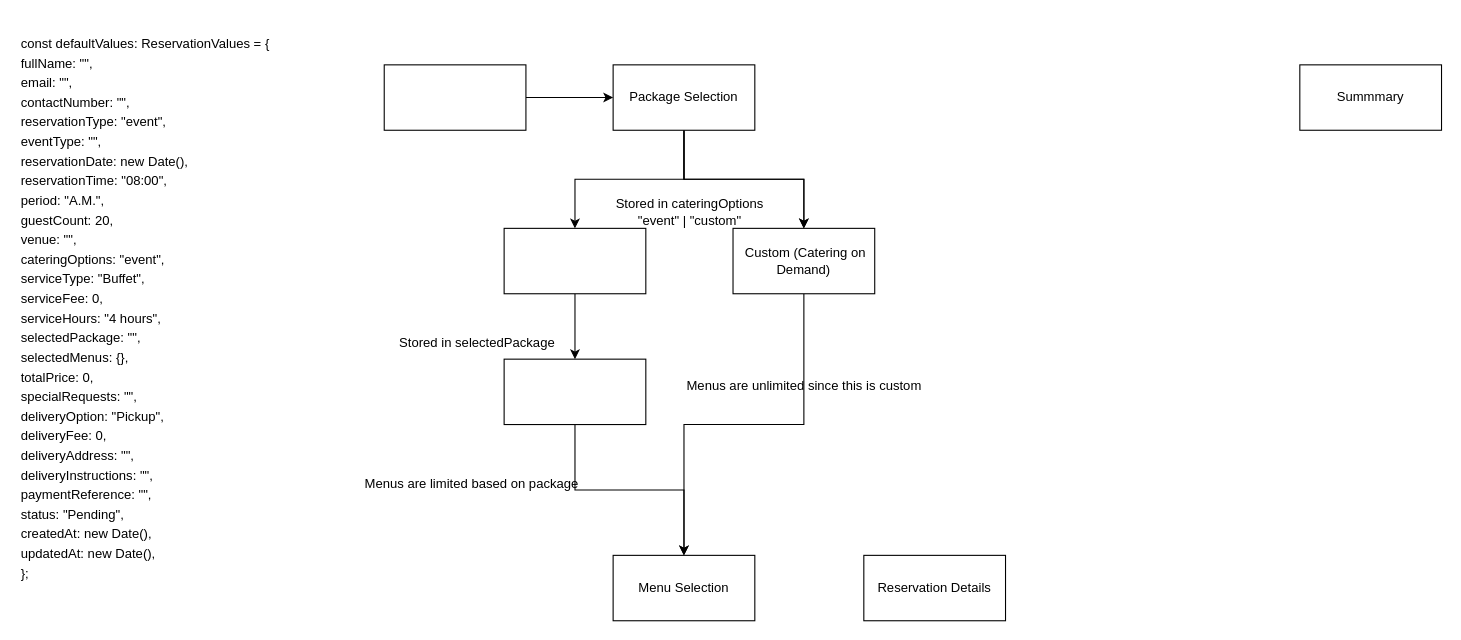
This 1461x640 diagram has some shape labels left out. Each missing label, with the box of its shape:
Customer Information: (383, 64, 526, 130)
Select a Package: (503, 358, 646, 425)
With Predefined Package (Event Catering): (503, 227, 646, 294)
